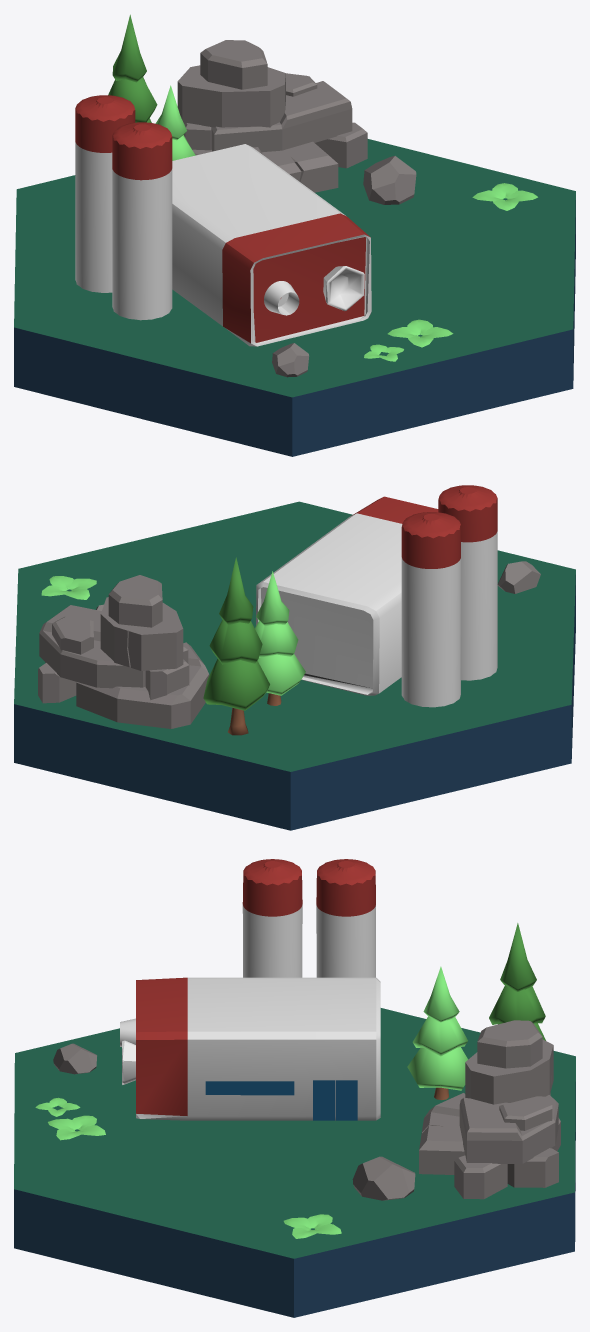
Rendered from Macro - Electric lvl 2.fbx.
3 views of the same model, one above another, from view 1: azimuth 30°, elevation 25°; view 2: azimuth 150°, elevation 25°; view 3: azimuth 270°, elevation 25° (orthographic).
Parts seen in each view (by area): view 1: Cylinder.154, Cube battery.011, Rock Type1 02 mesh.013, Cylinder battery.004, Cylinder battery.005, Tree_Spruce_tiny_01.002, Rock Type2 04 mesh.001, Tree_Spruce_tiny_01.001, Rock Type2 04 mesh.005, Plane.011, Plane.004; view 2: Cylinder.154, Cube battery.011, Rock Type1 02 mesh.013, Cylinder battery.005, Cylinder battery.004, Tree_Spruce_tiny_01.002, Tree_Spruce_tiny_01.001, Rock Type2 04 mesh.005, Plane.004; view 3: Cylinder.154, Cube battery.011, Rock Type1 02 mesh.013, Cylinder battery.004, Cylinder battery.005, Tree_Spruce_tiny_01.001, Tree_Spruce_tiny_01.002, Rock Type2 04 mesh.001, Plane.002, Rock Type2 04 mesh.005, Plane.001, Plane.004 (+2 smaller).
Part boxes in pixels (x1,y1,x2,y2): Cylinder.154: [14, 139, 575, 456]; Cube battery.011: [172, 144, 371, 346]; Rock Type1 02 mesh.013: [177, 40, 367, 192]; Cylinder battery.004: [112, 122, 172, 320]; Cylinder battery.005: [75, 95, 135, 292]; Tree_Spruce_tiny_01.002: [108, 14, 157, 122]; Rock Type2 04 mesh.001: [363, 156, 416, 204]; Tree_Spruce_tiny_01.001: [155, 85, 195, 160]; Rock Type2 04 mesh.005: [272, 343, 309, 377]; Plane.011: [387, 319, 453, 347]; Plane.004: [472, 183, 537, 210]; Cylinder.154: [14, 501, 575, 830]; Cube battery.011: [256, 496, 438, 695]; Rock Type1 02 mesh.013: [38, 575, 209, 728]; Cylinder battery.005: [401, 512, 460, 707]; Cylinder battery.004: [438, 485, 497, 680]; Tree_Spruce_tiny_01.002: [203, 557, 269, 735]; Tree_Spruce_tiny_01.001: [254, 571, 305, 705]; Rock Type2 04 mesh.005: [497, 561, 540, 593]; Plane.004: [41, 576, 96, 599]; Cylinder.154: [14, 1008, 575, 1317]; Cube battery.011: [120, 977, 380, 1120]; Rock Type1 02 mesh.013: [419, 1020, 560, 1199]; Cylinder battery.004: [242, 859, 302, 977]; Cylinder battery.005: [316, 859, 375, 977]; Tree_Spruce_tiny_01.001: [407, 966, 467, 1100]; Tree_Spruce_tiny_01.002: [489, 923, 545, 1040]; Rock Type2 04 mesh.001: [352, 1156, 415, 1200]; Plane.002: [205, 1081, 294, 1095]; Rock Type2 04 mesh.005: [53, 1043, 96, 1074]; Plane.001: [335, 1080, 357, 1120]; Plane.004: [283, 1214, 341, 1238].
Size of the model in its own units: 197 by 80.5 by 172.
